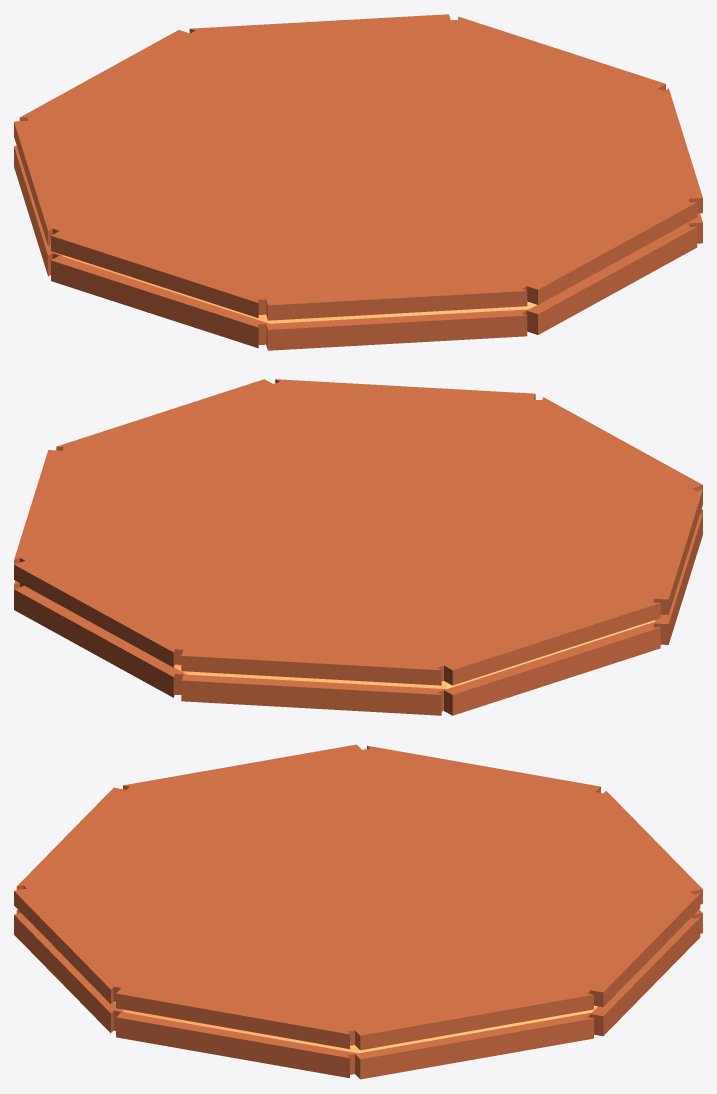
Rendered from Platform-3.fbx.
3 views of the same model, one above another, from view 1: azimuth 30°, elevation 25°; view 2: azimuth 150°, elevation 25°; view 3: azimuth 270°, elevation 25° (orthographic). The views are drawn at different scales.
Parts seen in each view (by area): view 1: Platform.002; view 2: Platform.002; view 3: Platform.002.
Boxes of the visible parts, x1=… form: Platform.002: x1=14, y1=14, x2=702, y2=350; Platform.002: x1=14, y1=379, x2=702, y2=715; Platform.002: x1=14, y1=744, x2=702, y2=1079.
Bounding box in the file's own units: 1.44 × 0.1011 × 1.44.
